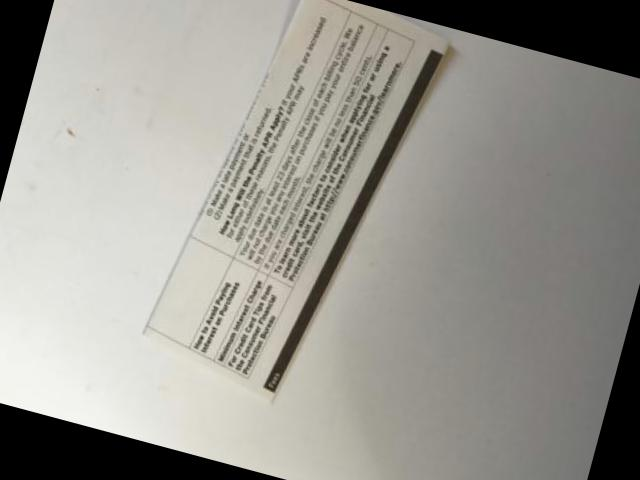cardboard paper: (144, 0, 445, 394)
